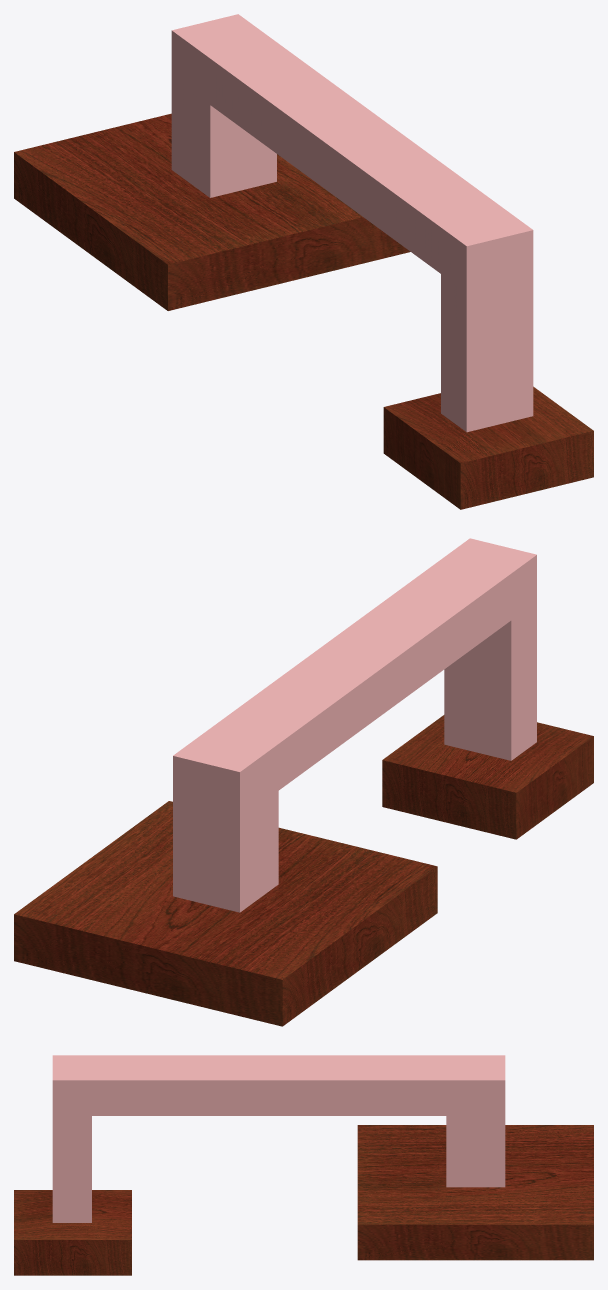
The model's file is CookingTube.FBX.
3 renders of one model, top to bottom at view 1: azimuth 30°, elevation 25°; view 2: azimuth 150°, elevation 25°; view 3: azimuth 270°, elevation 25°, orthographic. The views are drawn at different scales.
Visible parts, largest first — view 1: Tube; view 2: Tube; view 3: Tube.
Part boxes in pixels (box(x1,y1,x2,y2)): Tube: box(14, 14, 593, 509); Tube: box(14, 538, 593, 1026); Tube: box(14, 1055, 593, 1275).
Bounding box in the file's own units: 60 × 51.06 × 147.
2 materials, 1 textured.
